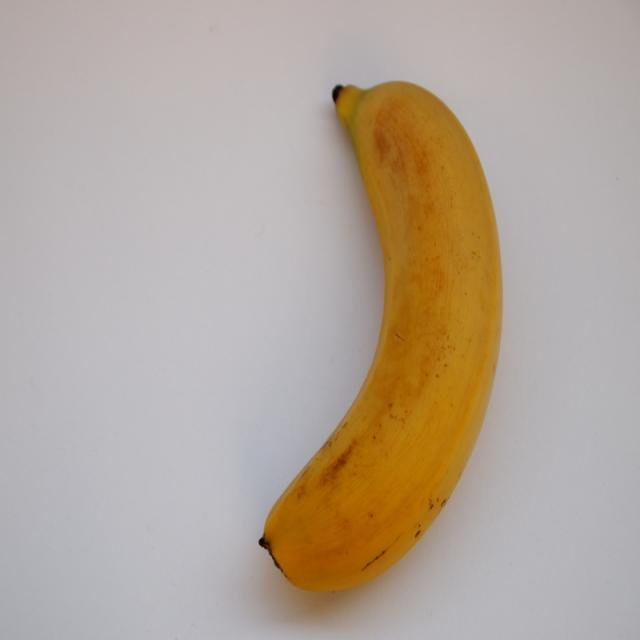Banana: (261, 84, 508, 592)
